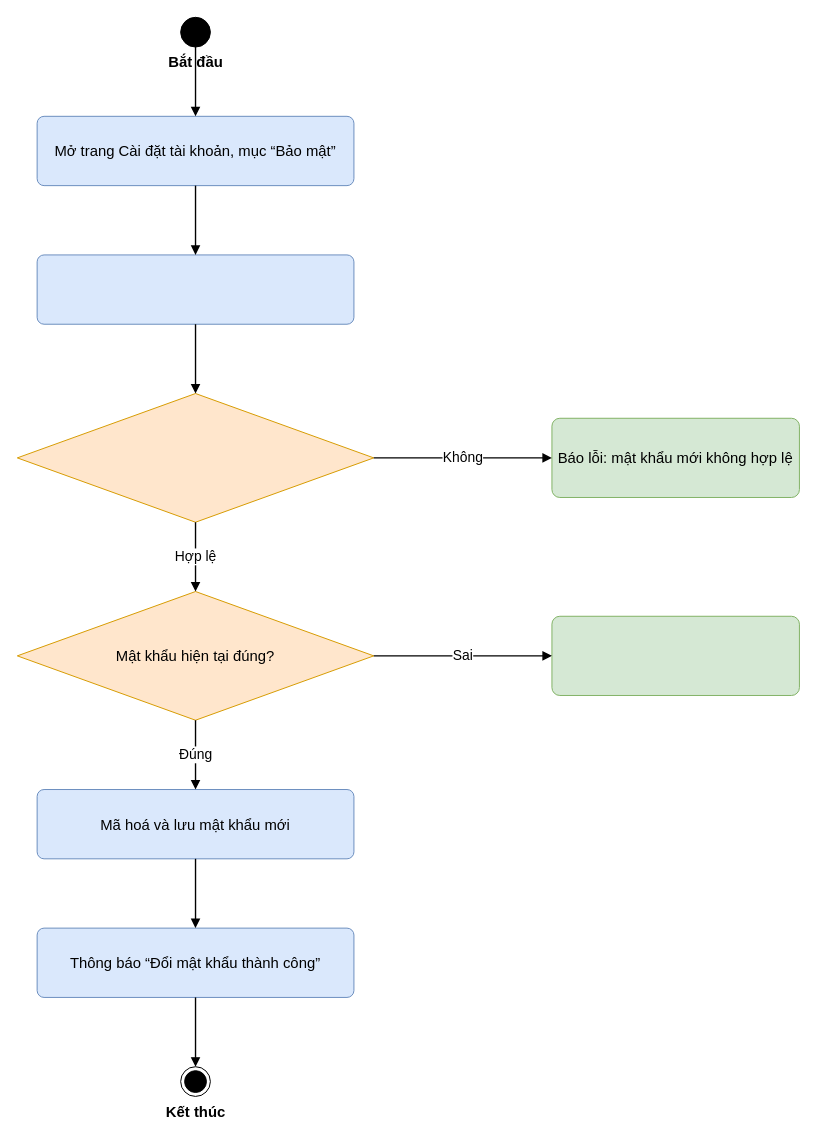
The diagram is 817 pixels wide and 1139 high, and some of its shapes have lost their labels. Here are the shapes that lost their labels. From the top down, the centre of each, then its label:
At pixel 195 289: "Nhập mật khẩu hiện tại, mật khẩu mới và nhập lại mật khẩu mới".
At pixel 195 457: "Mật khẩu mới ≥ 6 ký tự và nhập lại khớp?".
At pixel 675 655: "Báo lỗi: mật khẩu hiện tại không đúng".
